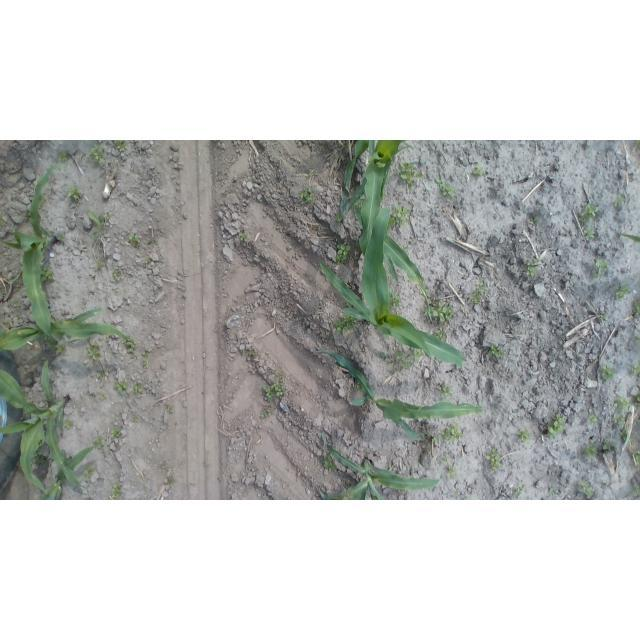Maize: (320, 206, 466, 368), (316, 349, 487, 441), (345, 140, 432, 320), (1, 360, 88, 497), (3, 158, 64, 341), (318, 430, 442, 500), (1, 307, 136, 354), (32, 444, 98, 500)
Weeds: (381, 348, 424, 370), (262, 375, 287, 404), (398, 162, 422, 191), (87, 210, 110, 240), (334, 313, 358, 335), (431, 301, 454, 323), (548, 413, 568, 437), (441, 423, 463, 443), (485, 447, 503, 471), (579, 204, 599, 225), (435, 178, 455, 198), (88, 145, 107, 166), (591, 258, 609, 279), (335, 244, 352, 265), (578, 480, 595, 500), (393, 205, 410, 225), (618, 229, 640, 244), (525, 258, 541, 278), (614, 395, 632, 412), (600, 363, 617, 381), (87, 342, 102, 361), (298, 188, 315, 204), (32, 449, 49, 464), (516, 428, 532, 443), (39, 265, 54, 281), (115, 380, 130, 396), (488, 344, 505, 358), (68, 185, 82, 202), (323, 455, 336, 473), (124, 338, 136, 357), (613, 412, 628, 427), (127, 233, 141, 248), (440, 385, 454, 400), (583, 443, 598, 457), (110, 483, 122, 500), (436, 324, 448, 341), (390, 292, 402, 309), (615, 285, 629, 299), (583, 227, 596, 241), (112, 141, 128, 152), (476, 280, 487, 296), (83, 464, 96, 477), (242, 349, 258, 359), (56, 150, 68, 163), (513, 485, 524, 499), (629, 362, 640, 376), (602, 440, 617, 450), (426, 432, 441, 442), (631, 450, 640, 466), (632, 300, 640, 318), (586, 414, 599, 425), (56, 342, 67, 355), (471, 292, 482, 305), (621, 429, 634, 440), (631, 484, 640, 499), (471, 166, 483, 177), (614, 195, 625, 207), (133, 382, 144, 394), (110, 428, 122, 439), (447, 466, 458, 478), (357, 193, 365, 209), (261, 409, 272, 420), (112, 269, 123, 280), (23, 208, 33, 220), (93, 435, 103, 447), (165, 475, 176, 485), (63, 420, 73, 431), (354, 379, 363, 391), (47, 339, 56, 350), (95, 262, 106, 271), (165, 405, 174, 416), (141, 358, 150, 368), (335, 213, 344, 223), (40, 195, 48, 206), (530, 217, 539, 226), (240, 232, 248, 242), (132, 415, 139, 426), (599, 314, 607, 323), (402, 244, 410, 253), (442, 456, 451, 464), (141, 349, 149, 357), (97, 371, 105, 379), (550, 488, 559, 495), (98, 393, 107, 400), (636, 396, 640, 411), (0, 217, 6, 227), (59, 234, 66, 242), (387, 462, 394, 470), (452, 490, 459, 498), (144, 258, 152, 265), (309, 169, 316, 176), (323, 333, 331, 339)
